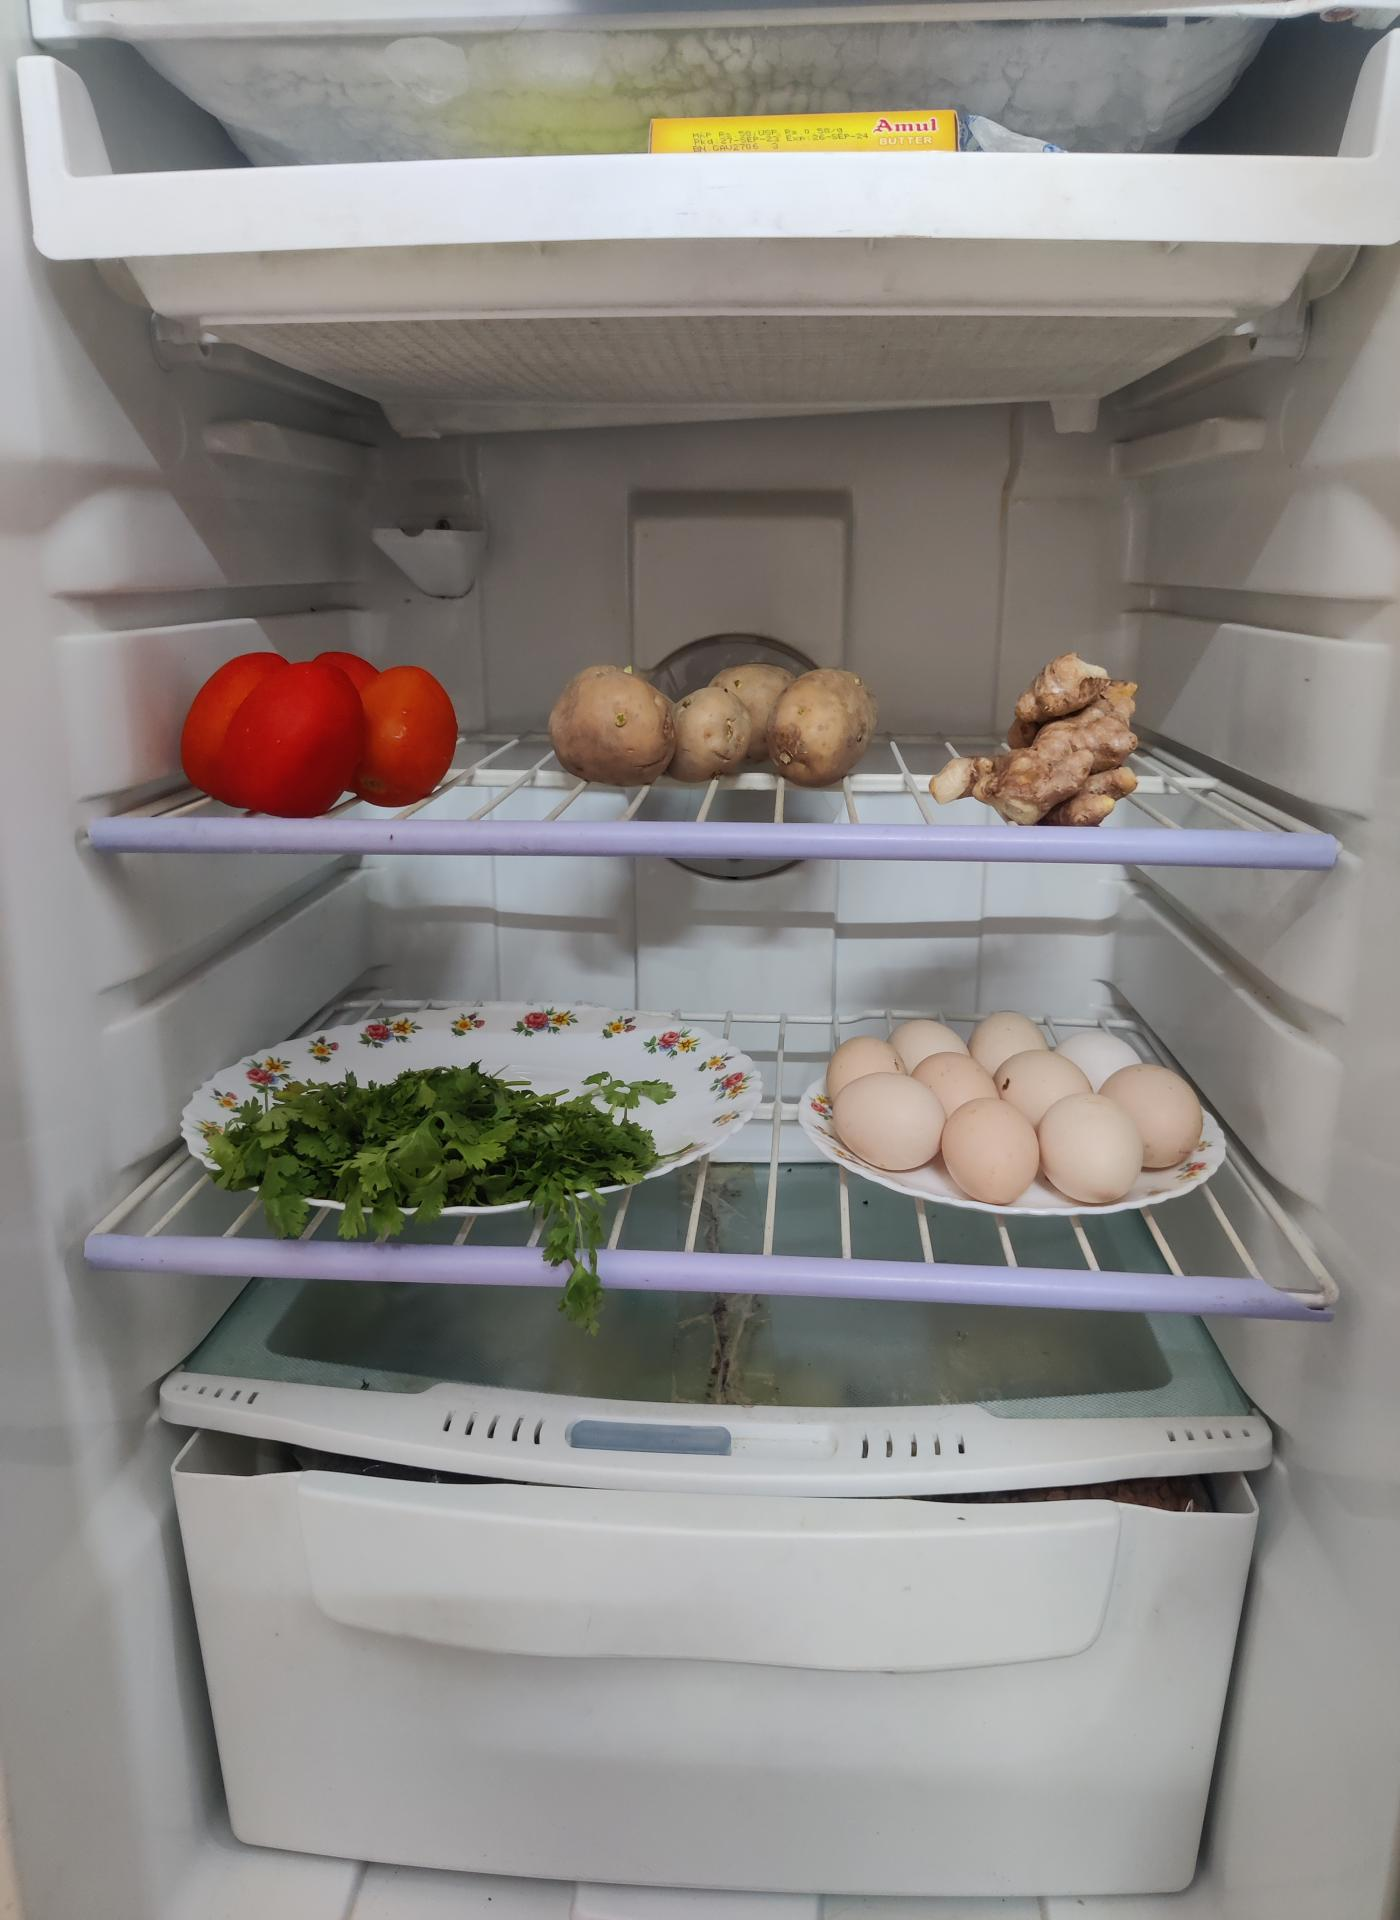coriander: (212, 1058, 662, 1225)
egg: (807, 1024, 1199, 1227)
ginger: (947, 647, 1142, 826)
potato: (546, 650, 881, 780)
tomato: (185, 642, 462, 808)
